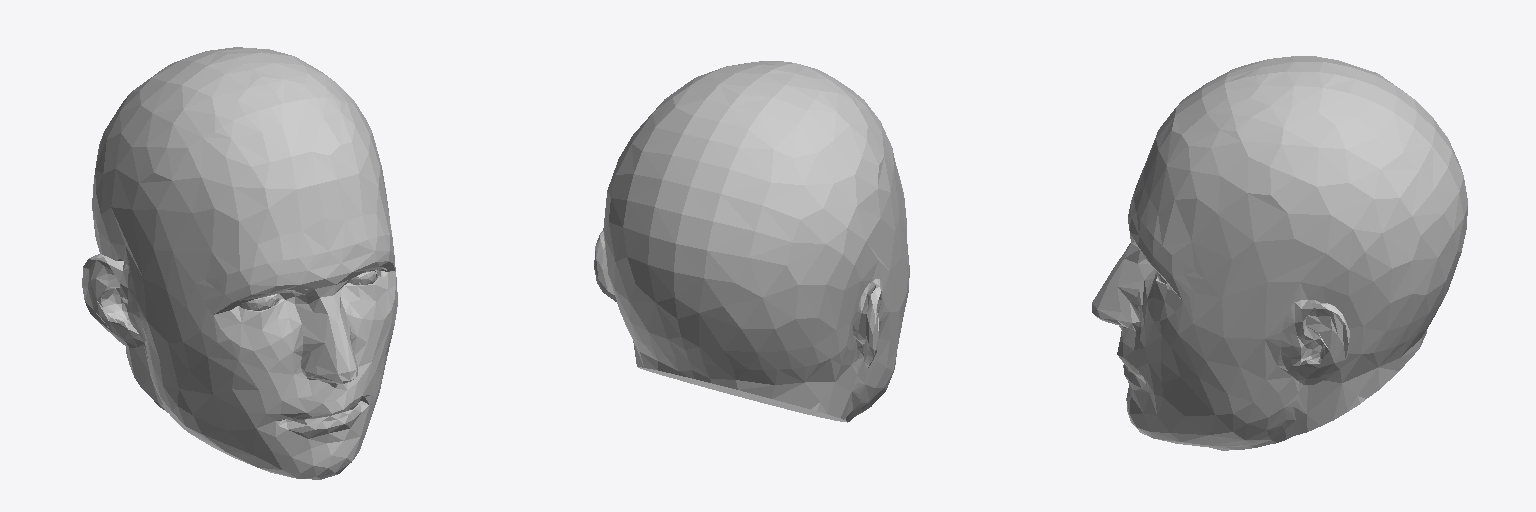
Rendered from head_mesh_male_new.obj.
3 renders of one model, left to right at view 1: azimuth 30°, elevation 25°; view 2: azimuth 150°, elevation 25°; view 3: azimuth 270°, elevation 25°, orthographic.
Parts seen in each view (by area): view 1: mmGroup0; view 2: mmGroup0, mmGroup1; view 3: mmGroup0.
Boxes of the visible parts, box(x1,y1,x2,y2) form: mmGroup0: box(82, 47, 397, 479); mmGroup0: box(594, 61, 909, 421); mmGroup1: box(638, 367, 847, 422); mmGroup0: box(1092, 56, 1467, 450).
Bounding box in the file's own units: 0.1874 × 0.2359 × 0.2184.